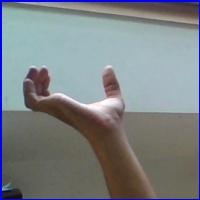B: (20, 59, 133, 139)
